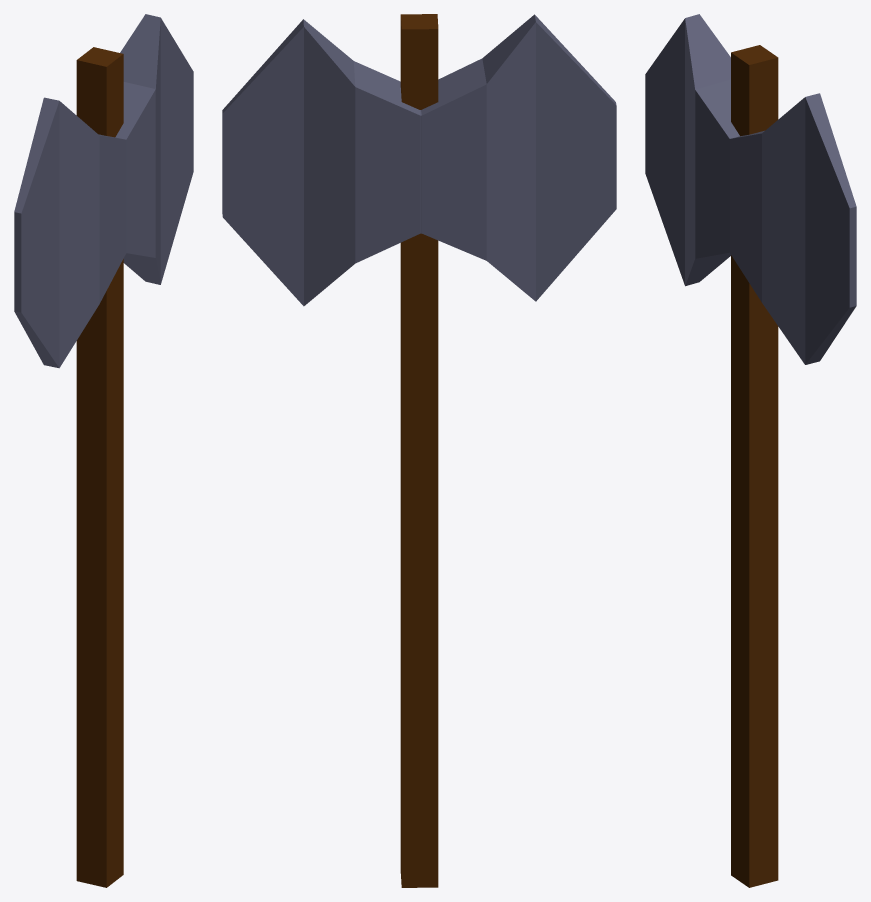
File: axe.glb
3 views of the same model, side by side, from view 1: azimuth 30°, elevation 25°; view 2: azimuth 150°, elevation 25°; view 3: azimuth 270°, elevation 25° (orthographic). The views are drawn at different scales.
Parts seen in each view (by area): view 1: Cube, Cube.002, Cube.001; view 2: Cube.001, Cube.002, Cube; view 3: Cube, Cube.001, Cube.002.
Part boxes in pixels (<box>): Cube: <box>76,47,123,887</box>; Cube.002: <box>14,97,126,368</box>; Cube.001: <box>115,14,193,284</box>; Cube.001: <box>222,19,421,306</box>; Cube.002: <box>421,14,616,301</box>; Cube: <box>400,14,438,887</box>; Cube: <box>731,45,778,887</box>; Cube.001: <box>729,93,856,364</box>; Cube.002: <box>645,14,739,286</box>.
Size of the model in its own units: 1.89 by 5.32 by 1.24.
